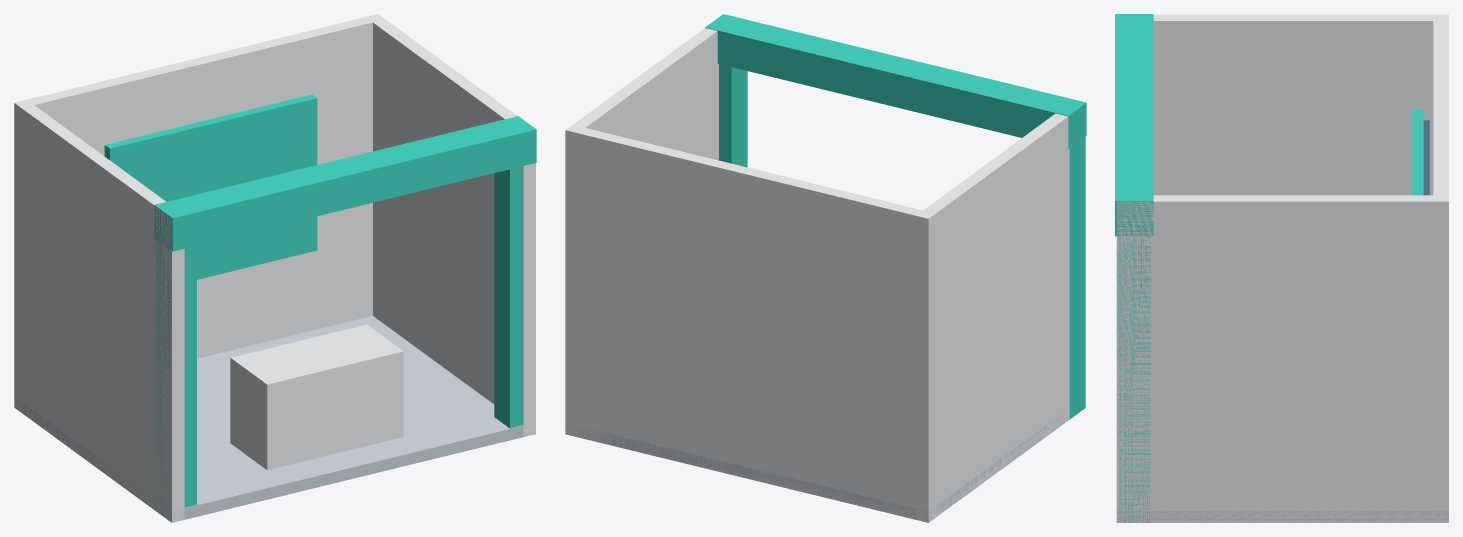
3 renders of one model, left to right at view 1: azimuth 30°, elevation 25°; view 2: azimuth 150°, elevation 25°; view 3: azimuth 270°, elevation 25°, orthographic. The views are drawn at different scales.
Parts seen in each view (by area): view 1: Exhibition Booth Concept; view 2: Exhibition Booth Concept; view 3: Exhibition Booth Concept.
Boxes of the visible parts, x1,y1,x2,y2 form: Exhibition Booth Concept: (14,14,536,522); Exhibition Booth Concept: (565,14,1086,522); Exhibition Booth Concept: (1115,14,1448,522).
Size of the model in its own units: 4 by 3.2 by 3.01.
